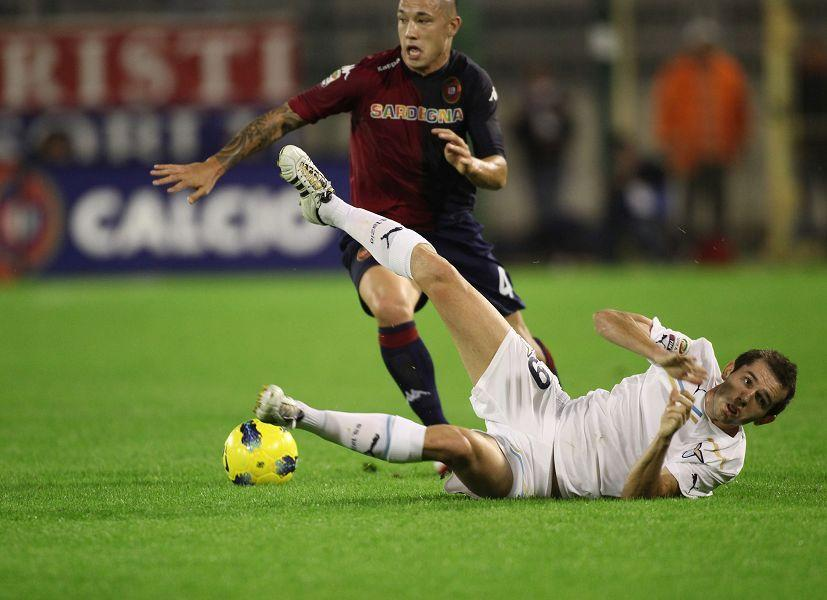down: (246, 223, 788, 508)
up: (142, 1, 516, 410)
